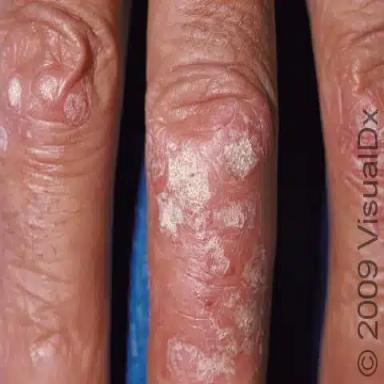Psoriasis: (148, 104, 266, 383), (38, 73, 90, 126), (7, 77, 22, 108), (1, 125, 8, 154)
